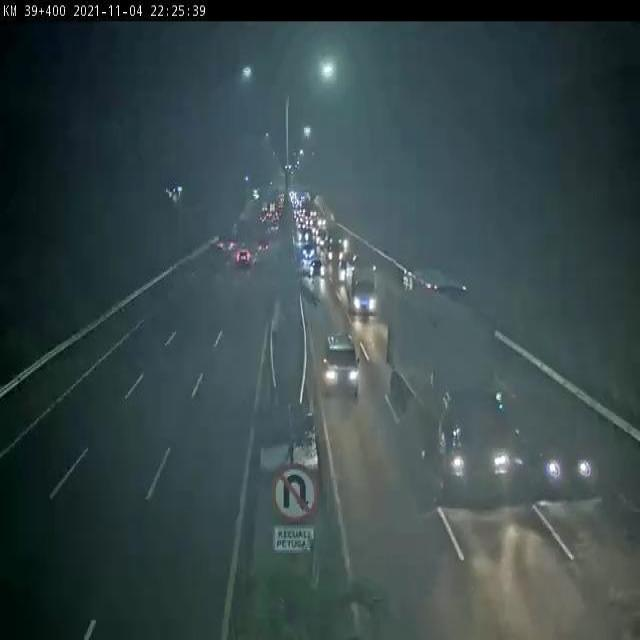ARABA: (512, 384, 603, 503), (321, 335, 362, 396), (233, 248, 253, 275), (309, 261, 327, 280)
KAMYONET: (346, 260, 378, 313)
TIR: (387, 290, 511, 506)
